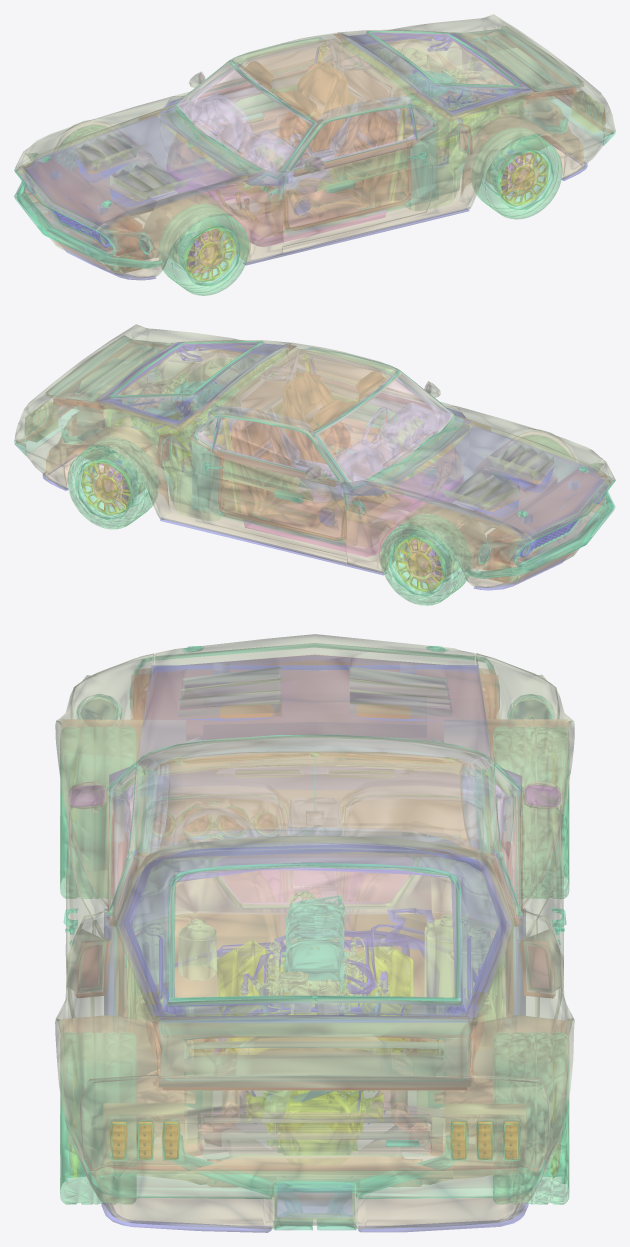
File: ford_mustang_mach_40.glb
3 views of the same model, one above another, from view 1: azimuth 30°, elevation 25°; view 2: azimuth 150°, elevation 25°; view 3: azimuth 270°, elevation 25° (orthographic). The views are drawn at different scales.
Visible parts, largest first — view 1: desirefx_me_026, desirefx_me_104, desirefx_me_118, desirefx_me_107, desirefx_me_066, desirefx_me_105, desirefx_me_069, desirefx_me_027, desirefx_me_087, desirefx_me_002, desirefx_me_176, desirefx_me_060 (+37 smaller); view 2: desirefx_me_026, desirefx_me_104, desirefx_me_118, desirefx_me_107, desirefx_me_066, desirefx_me_105, desirefx_me_069, desirefx_me_027, desirefx_me_087, desirefx_me_003, desirefx_me_186, desirefx_me_060 (+39 smaller); view 3: desirefx_me_026, desirefx_me_107, desirefx_me_060, desirefx_me_104, desirefx_me_087, desirefx_me_027, desirefx_me_066, desirefx_me_069, desirefx_me_105, desirefx_me_110, desirefx_me_070, desirefx_me_024 (+37 smaller).
Boxes of the visible parts, x1,y1,x2,y2 form: desirefx_me_026: (15, 14, 615, 278); desirefx_me_104: (172, 39, 423, 236); desirefx_me_118: (177, 39, 434, 172); desirefx_me_107: (55, 51, 583, 278); desirefx_me_066: (25, 116, 235, 228); desirefx_me_105: (178, 39, 437, 193); desirefx_me_069: (341, 37, 528, 210); desirefx_me_027: (14, 31, 615, 268); desirefx_me_087: (315, 33, 531, 166); desirefx_me_002: (471, 127, 562, 219); desirefx_me_176: (158, 204, 248, 295); desirefx_me_060: (370, 32, 515, 85); desirefx_me_026: (14, 324, 614, 588); desirefx_me_104: (206, 348, 457, 546); desirefx_me_118: (195, 354, 452, 482); desirefx_me_107: (46, 362, 573, 586); desirefx_me_066: (394, 426, 604, 538); desirefx_me_105: (192, 349, 452, 503); desirefx_me_069: (101, 348, 288, 520); desirefx_me_027: (14, 341, 615, 578); desirefx_me_087: (98, 342, 314, 471); desirefx_me_003: (68, 437, 158, 529); desirefx_me_186: (380, 514, 471, 605); desirefx_me_060: (114, 342, 258, 395); desirefx_me_026: (55, 634, 574, 1228); desirefx_me_107: (61, 719, 569, 1227); desirefx_me_060: (169, 865, 460, 1000); desirefx_me_104: (124, 751, 505, 1017); desirefx_me_087: (107, 842, 523, 1123); desirefx_me_027: (63, 643, 566, 1198); desirefx_me_066: (139, 655, 490, 757); desirefx_me_069: (127, 845, 502, 1143); desirefx_me_105: (112, 738, 517, 911); desirefx_me_110: (159, 1017, 470, 1080); desirefx_me_070: (131, 655, 498, 740); desirefx_me_024: (70, 765, 559, 1229).
Size of the model in its own units: 4.65 by 1.2 by 2.02.
